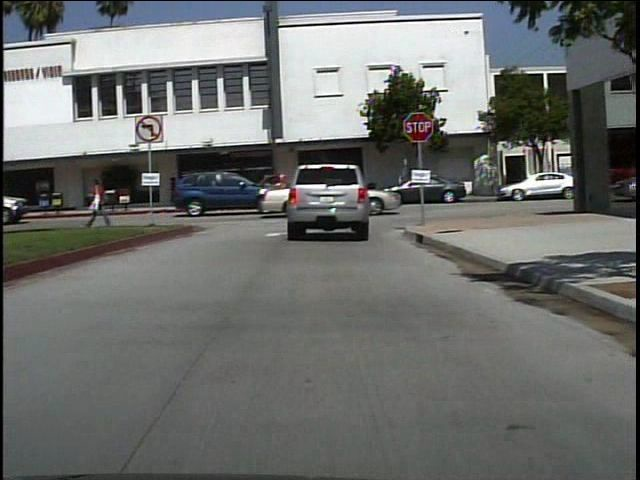person: (84, 174, 119, 231), (301, 164, 329, 232), (192, 173, 210, 207)
